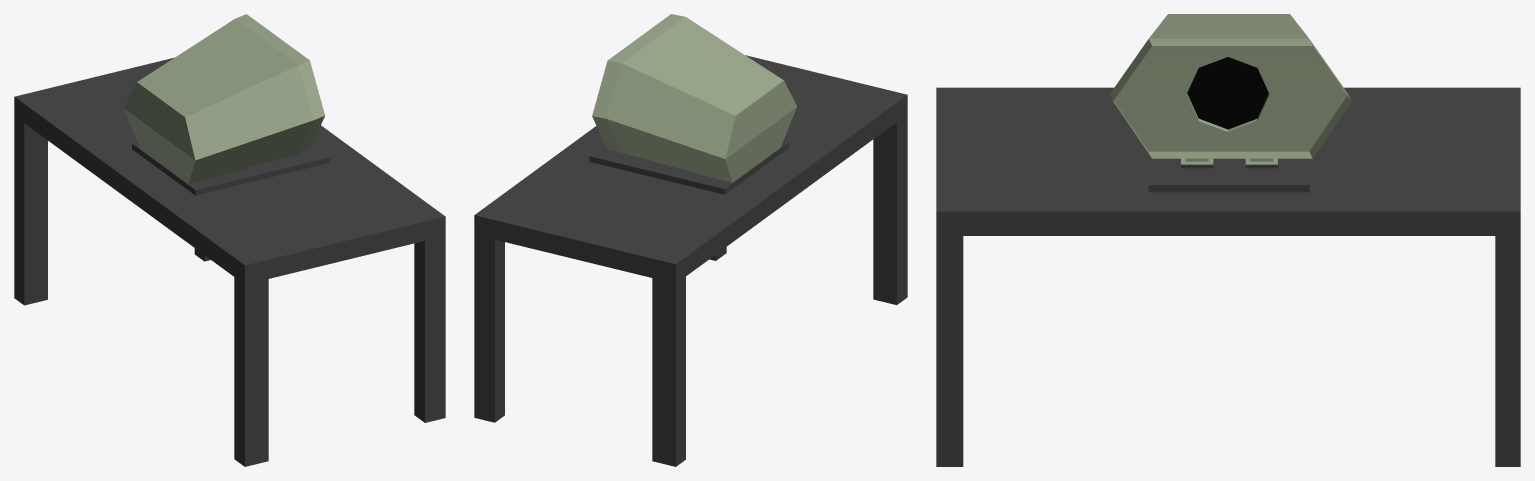
Rendered from Ship Computer.fbx.
3 views of the same model, side by side, from view 1: azimuth 30°, elevation 25°; view 2: azimuth 150°, elevation 25°; view 3: azimuth 270°, elevation 25° (orthographic). The views are drawn at different scales.
Visible parts, largest first — view 1: Ship Computer; view 2: Ship Computer; view 3: Ship Computer.
Part boxes in pixels (x1,y1,x2,y2): Ship Computer: [14, 14, 445, 466]; Ship Computer: [474, 14, 907, 466]; Ship Computer: [936, 14, 1520, 466].
Bounding box in the file's own units: 163 × 239 × 324.
